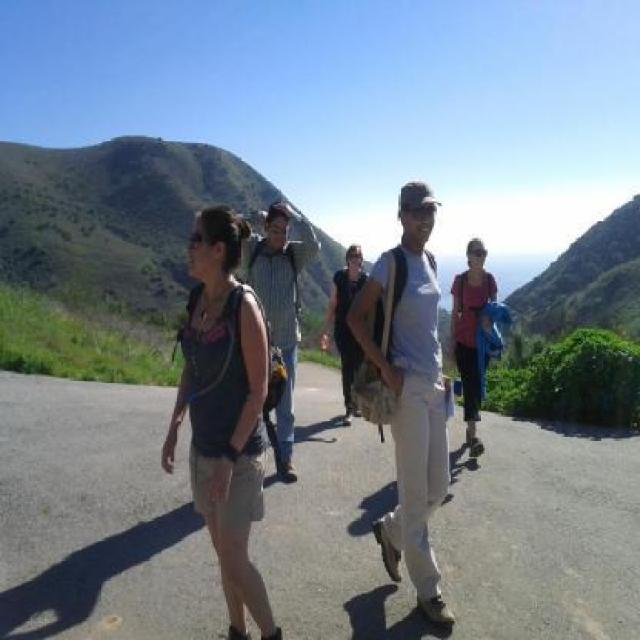backpack: (348, 355, 402, 434), (265, 340, 289, 418)
